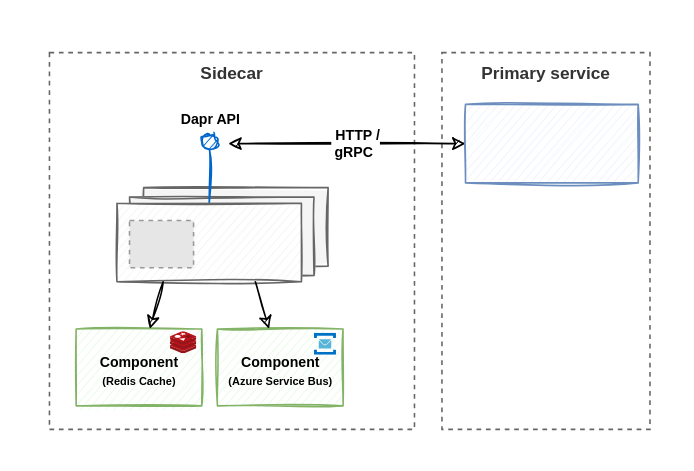
The diagram is 694 pixels wide and 471 high, and some of its shapes have lost their labels. Grey dashed boxes stand in for pictures. The shapes that lost their labels are listed below. From the top down, each one's box as (x1, y1, x2, y2) in pixels, then its label:
(464, 103, 638, 183): Your service
(115, 202, 301, 282): Building blocks
